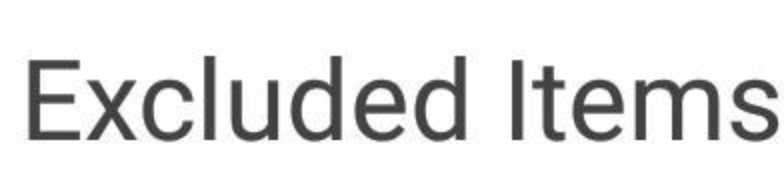TextView: (1, 1, 783, 191)
